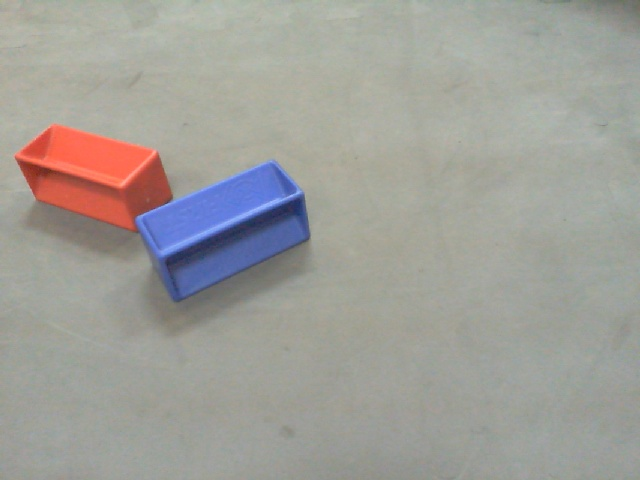BlueSample: (133, 158, 317, 304)
RedSample: (11, 122, 175, 234)
